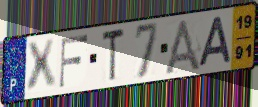7: (133, 21, 159, 81)
A: (162, 17, 203, 75), (196, 14, 233, 69)
F: (58, 33, 90, 90)
T: (101, 26, 126, 85)
X: (25, 37, 58, 96)
